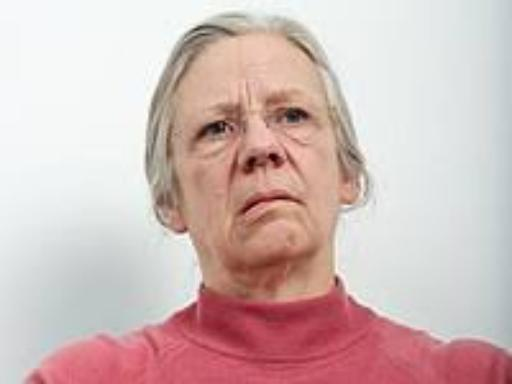left_eye: (269, 108, 319, 126)
left_lip_corner: (293, 191, 308, 209)
right_eye: (196, 116, 237, 142)
right_lip_corner: (236, 206, 251, 219)
